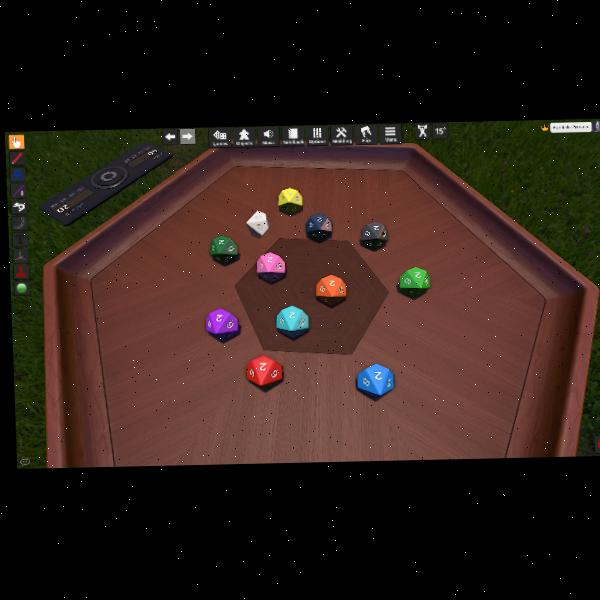d10: (356, 362, 393, 396), (246, 353, 284, 386), (276, 305, 311, 339), (205, 307, 238, 340), (316, 274, 348, 304), (359, 220, 389, 250), (398, 266, 427, 296), (255, 252, 285, 281), (305, 212, 333, 240), (209, 235, 236, 263), (277, 186, 302, 213), (245, 210, 269, 237)
